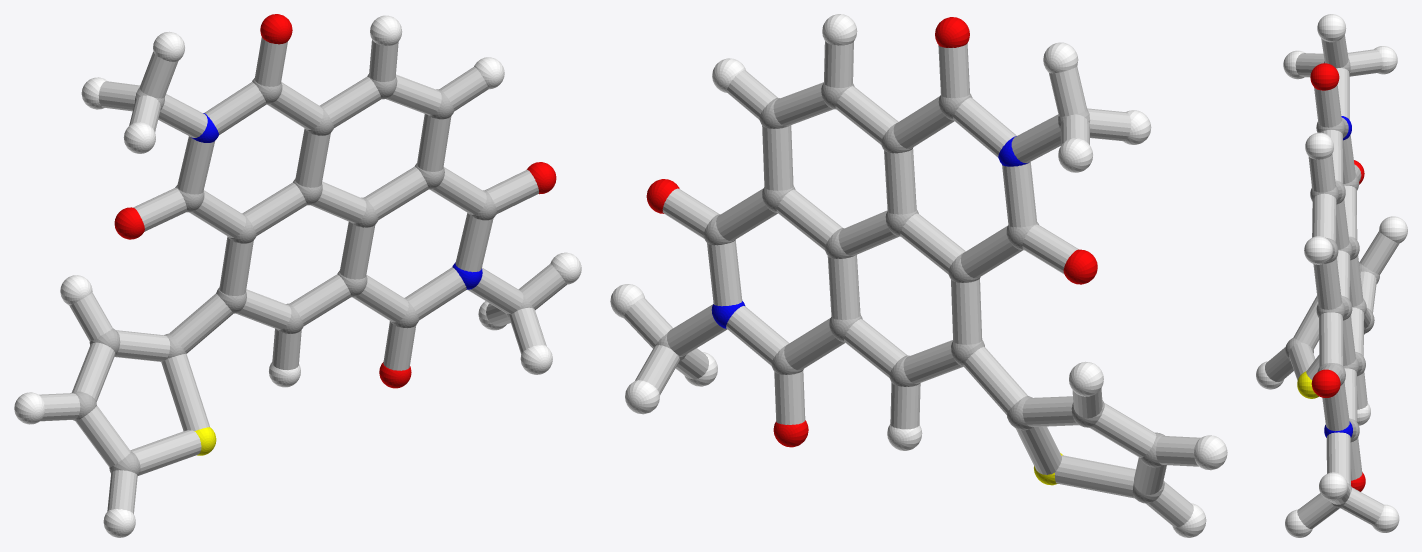
The model's file is Dimethyl_Naphthalene_Dicarboximide_Phi_30_Theta_30_Thiophene.glb.
The picture shows the model from 3 angles, left to right: view 1: azimuth 30°, elevation 25°; view 2: azimuth 150°, elevation 25°; view 3: azimuth 270°, elevation 25°; orthographic projection. The views are drawn at different scales.
Visible parts, largest first — view 1: grp14119, grp7241, grp1, grp12309, grp11585; view 2: grp14119, grp7241, grp1, grp12309, grp11585; view 3: grp14119, grp7241, grp1, grp12309, grp13757, grp11585.
Boxes of the visible parts, x1,y1,x2,y2 form: grp14119: (39, 37, 566, 513); grp7241: (14, 15, 581, 537); grp1: (72, 74, 532, 475); grp12309: (114, 14, 556, 388); grp11585: (191, 113, 482, 289); grp14119: (623, 41, 1200, 527); grp7241: (610, 14, 1227, 537); grp1: (655, 82, 1164, 503); grp12309: (646, 17, 1097, 447); grp11585: (711, 136, 1029, 328); grp14119: (1265, 35, 1398, 528); grp7241: (1256, 14, 1407, 537); grp1: (1285, 59, 1379, 508); grp12309: (1310, 63, 1365, 491); grp13757: (1297, 371, 1318, 398); grp11585: (1324, 116, 1352, 437).
Bounding box in the file's own units: 12.09 × 9.38 × 3.16.
